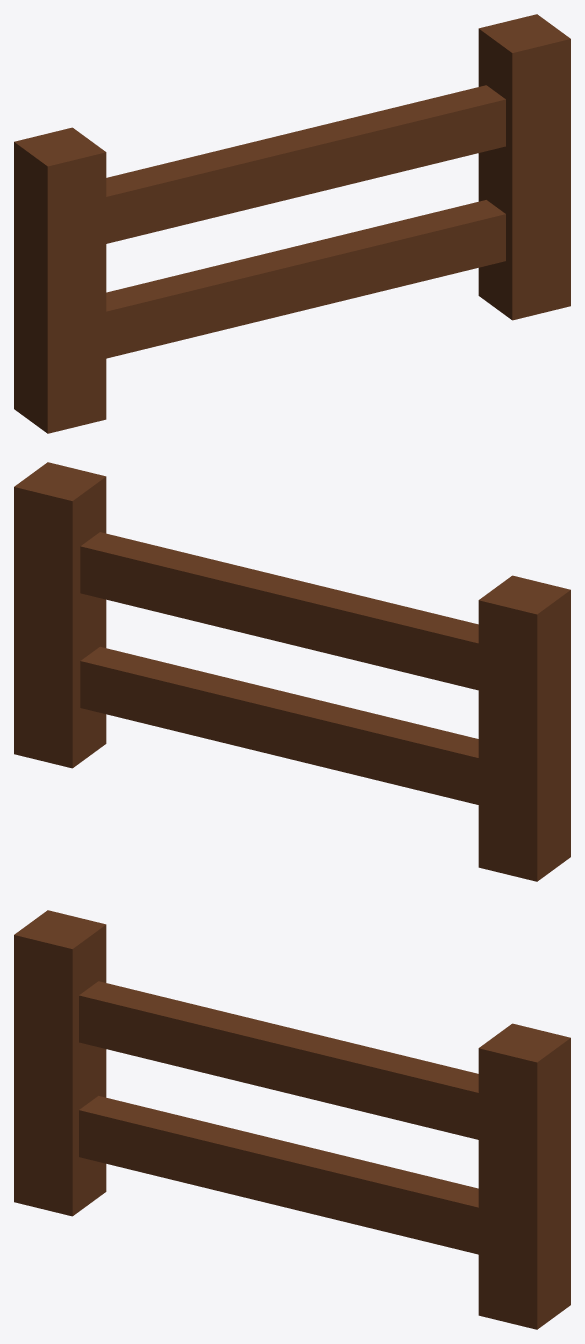
File: Fence Tile_9.fbx
The picture shows the model from 3 angles, top to bottom: view 1: azimuth 30°, elevation 25°; view 2: azimuth 150°, elevation 25°; view 3: azimuth 330°, elevation 25°; orthographic projection.
Visible parts, largest first — view 1: Fence Tile_9; view 2: Fence Tile_9; view 3: Fence Tile_9.
Part boxes in pixels (x1,y1,x2,y2): Fence Tile_9: [14, 14, 570, 433]; Fence Tile_9: [14, 462, 570, 881]; Fence Tile_9: [14, 910, 570, 1329].
Size of the model in its own units: 219 by 107 by 24.49.
